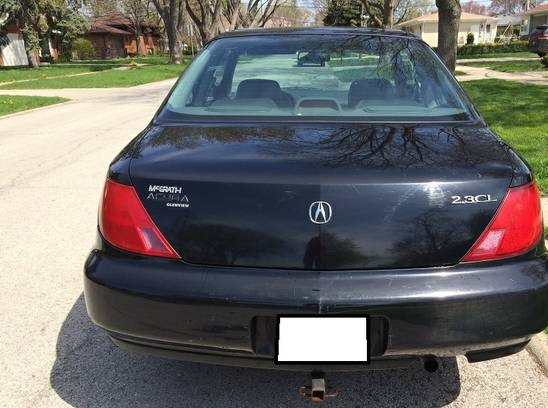acura: (77, 23, 548, 382)
